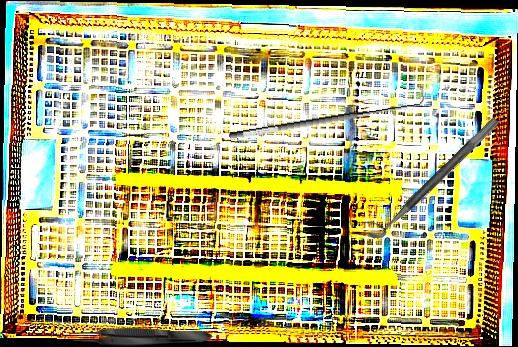Fixation Ring: (358, 106, 501, 245)
Hook Surgical: (226, 85, 430, 142)
Tissue Forceps: (71, 327, 213, 347)
